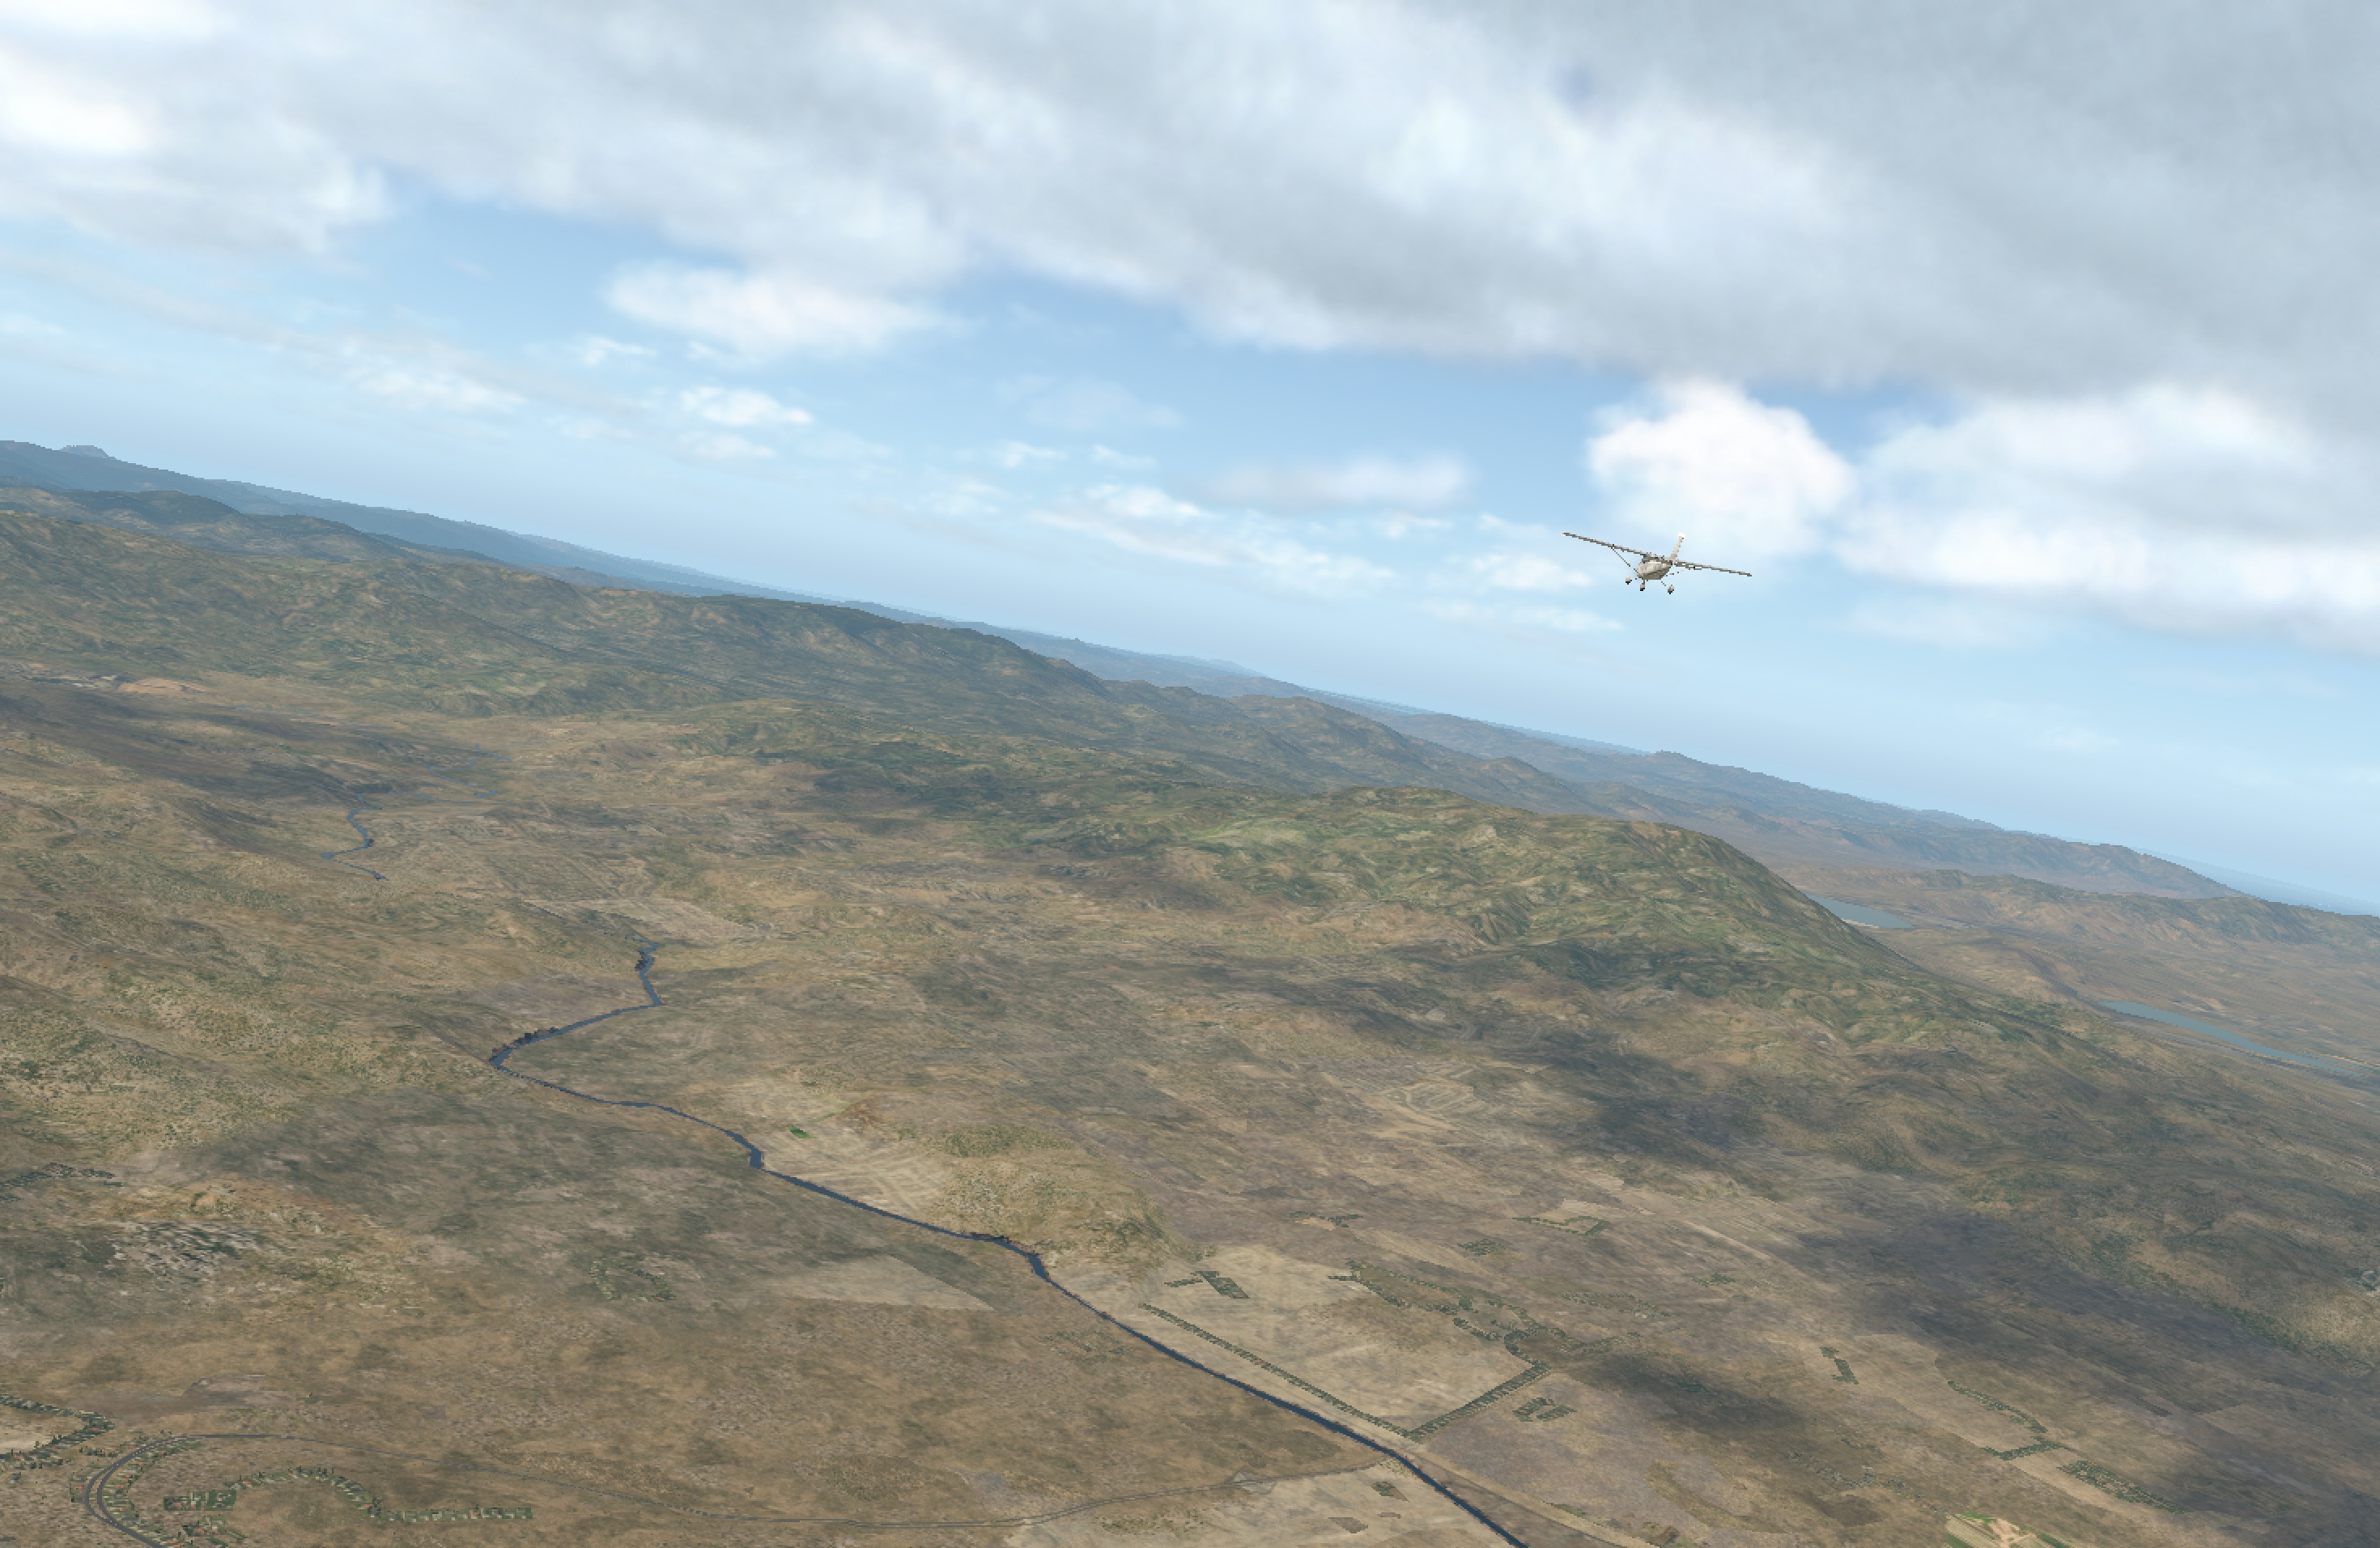aircraft: (1586, 541, 1719, 592)
